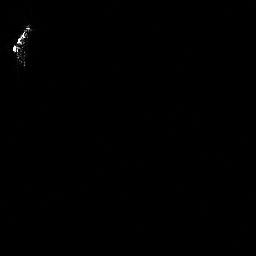ship: (9, 21, 34, 66)
